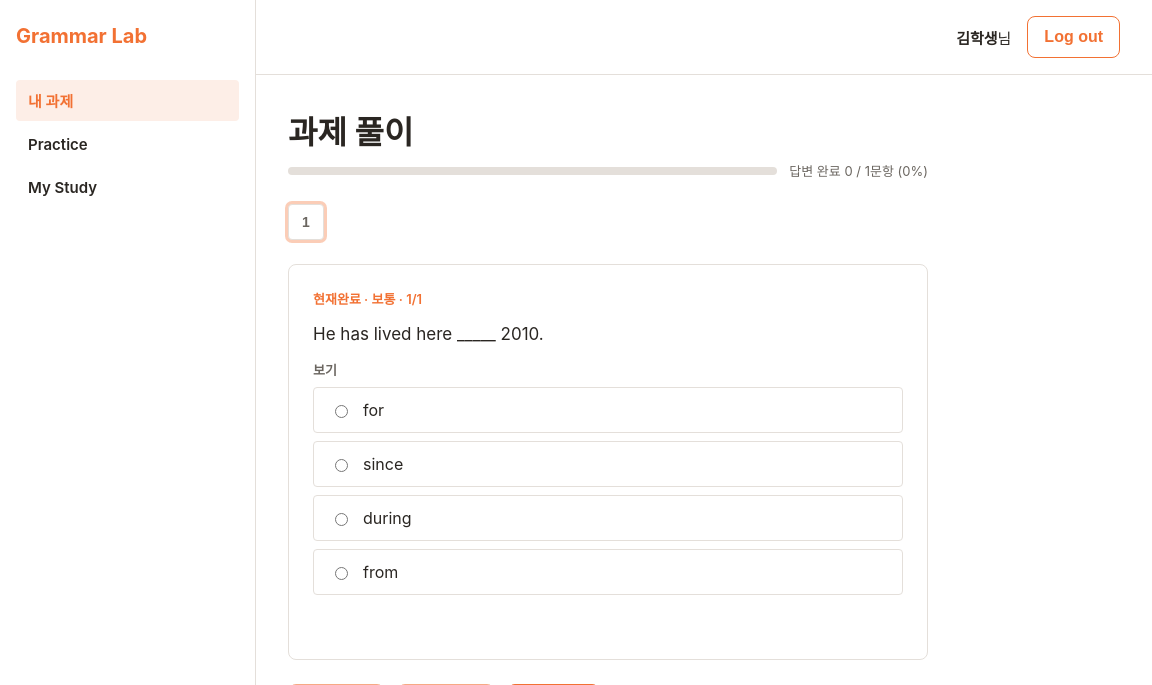
StudentAssignmentSolvePage › marks the assignment forcibly submitted when a save hits a 409 already-submitted conflict
Expected: the text "He has lived here _____ 2010." is shown, [313,324,544,344]
Click the radio button labelled "since" at (342, 466), box [335,459,348,472]
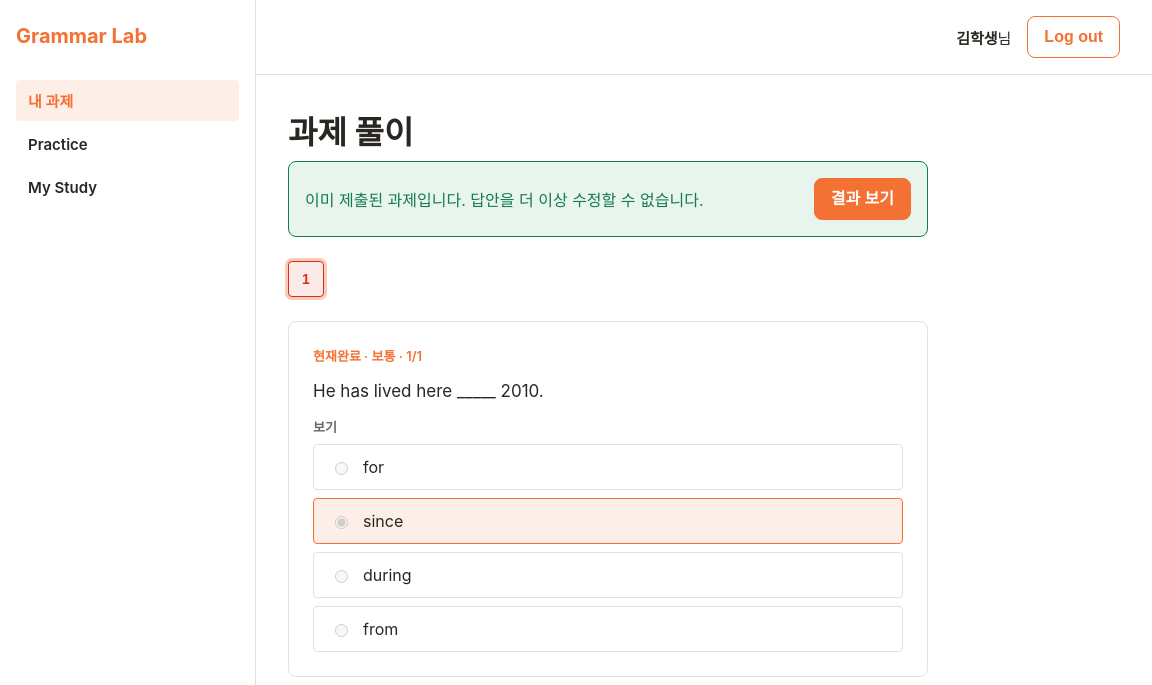
Now the text "이미 제출된 과제입니다. 답안을 더 이상 수정할 수 없습니다." is shown, box [305,187,704,211]
Now the radio button labelled "since" is disabled, box [335,516,348,529]
